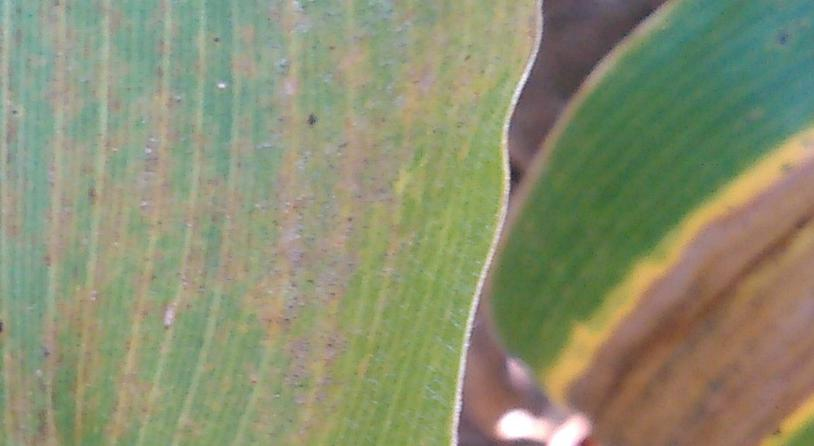tarspot: (462, 47, 475, 65), (306, 110, 320, 126), (152, 213, 166, 229), (324, 40, 338, 55), (209, 31, 223, 44), (342, 211, 356, 223), (8, 104, 21, 116), (41, 347, 52, 360), (1, 316, 6, 334)
